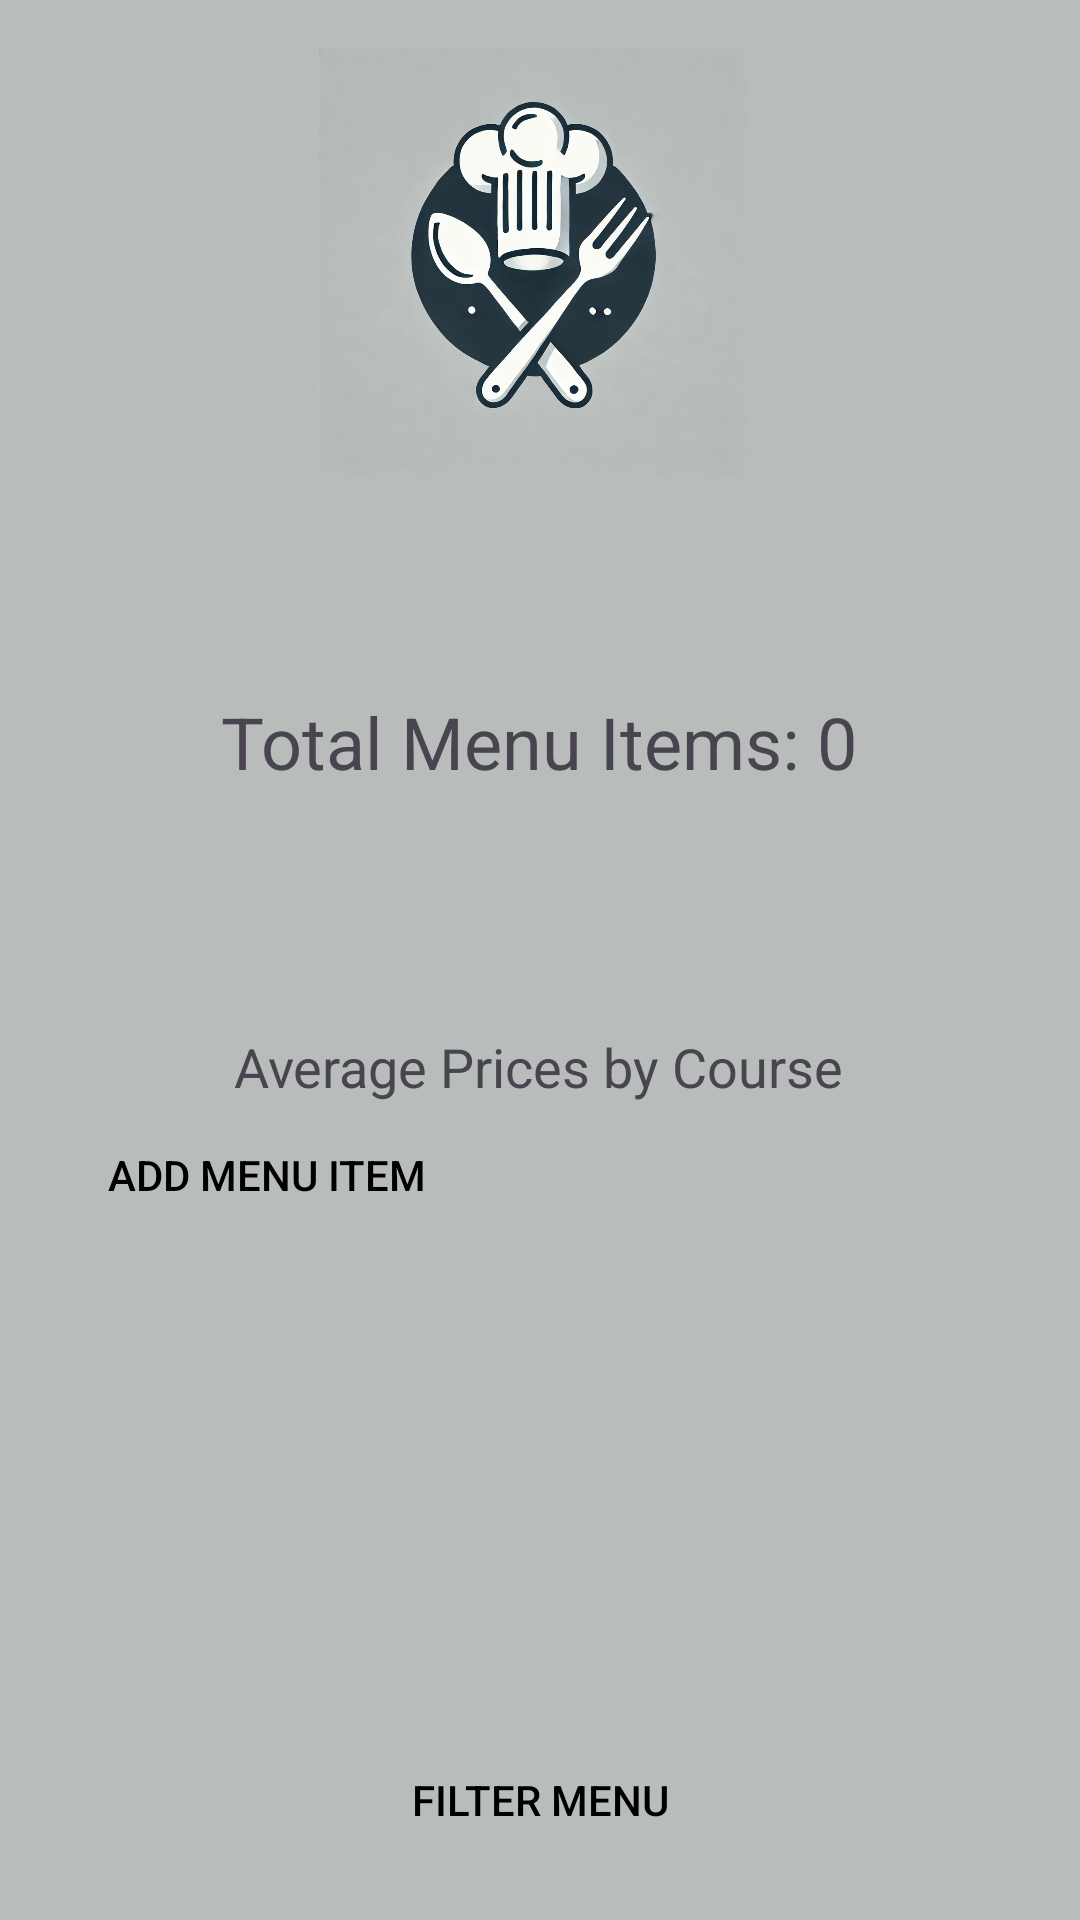

Screen size 1080w x 1920h. Icon name, then its center in pixels as [x,y]:
chef: [533,255]
